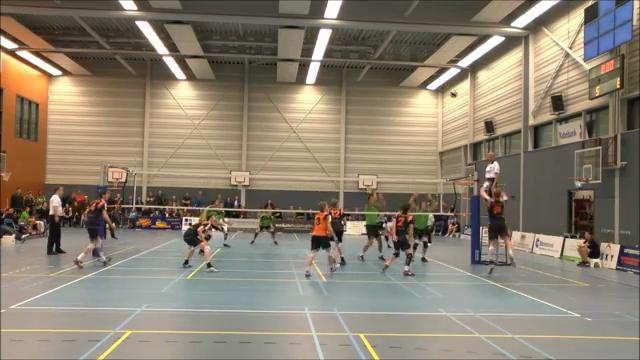attacco: (475, 178, 520, 278)
